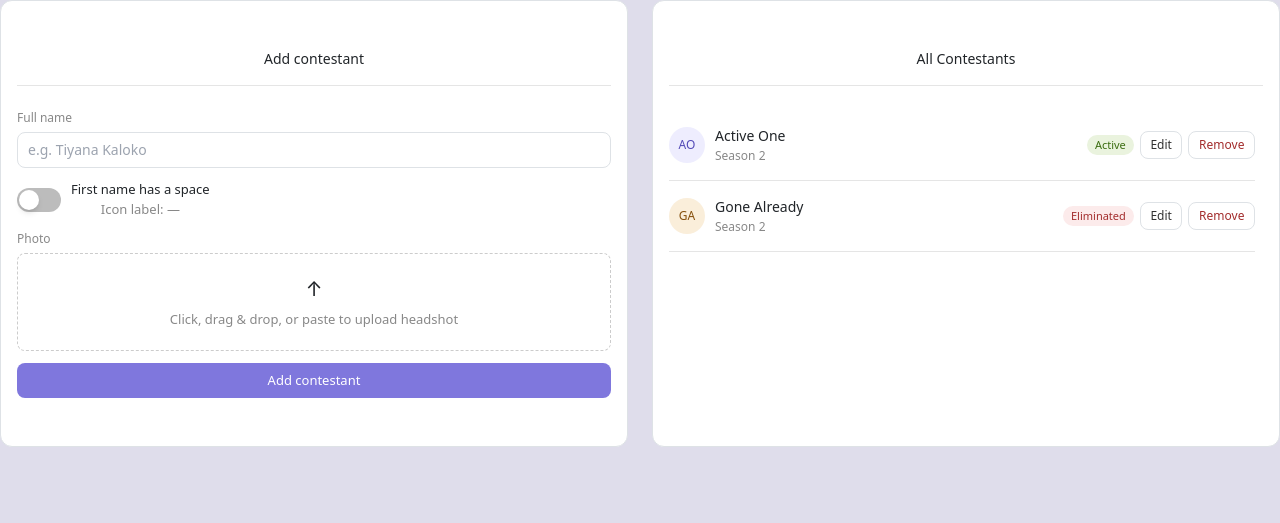
Scenario: AdminContestants › saves a renamed contestant without a new photo
This screenshot has width=1280, height=523.
Click the button "Edit" in the row of "Active One" at (1161, 145), box [1140, 131, 1182, 159]
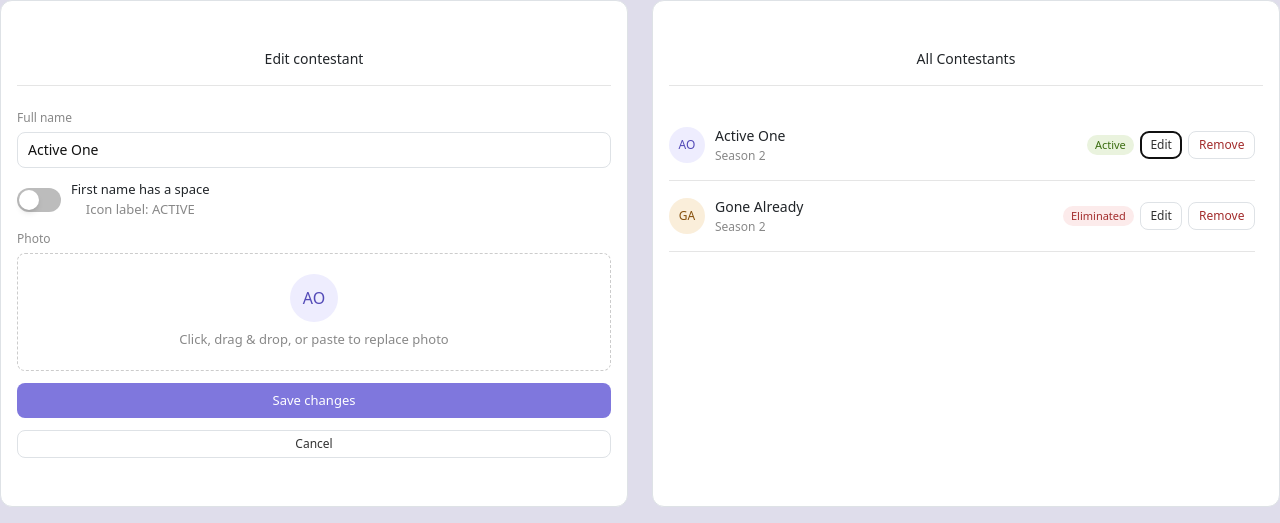
Replace the text in the field with placeholder "e.g. Tiyana Kaloko" with "New Name" at (314, 150), box [17, 132, 611, 168]
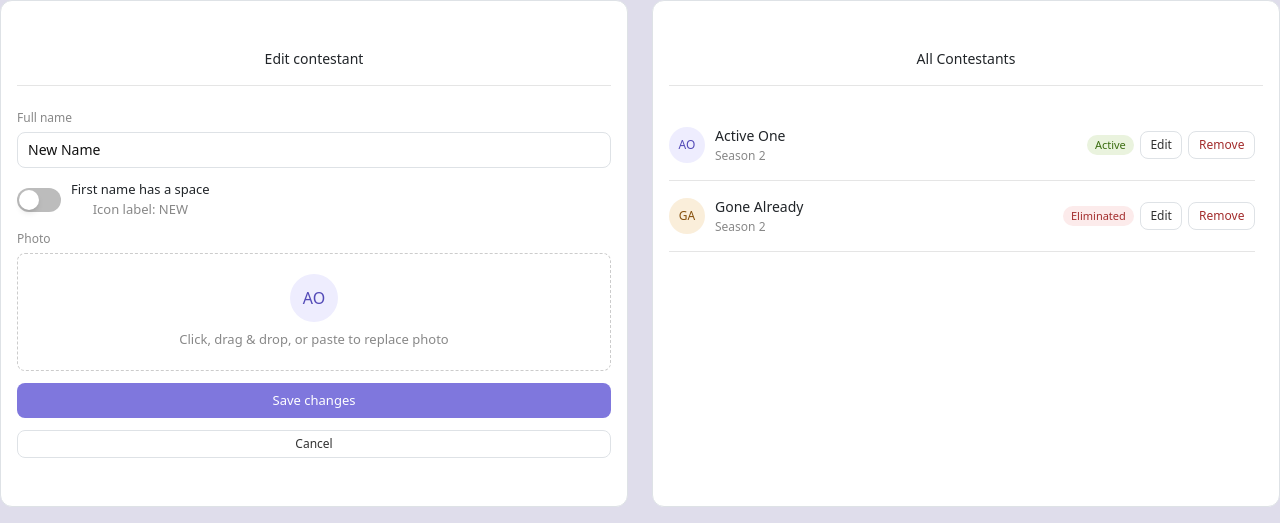
Click the button "Save changes" at (314, 401), box [17, 383, 611, 418]
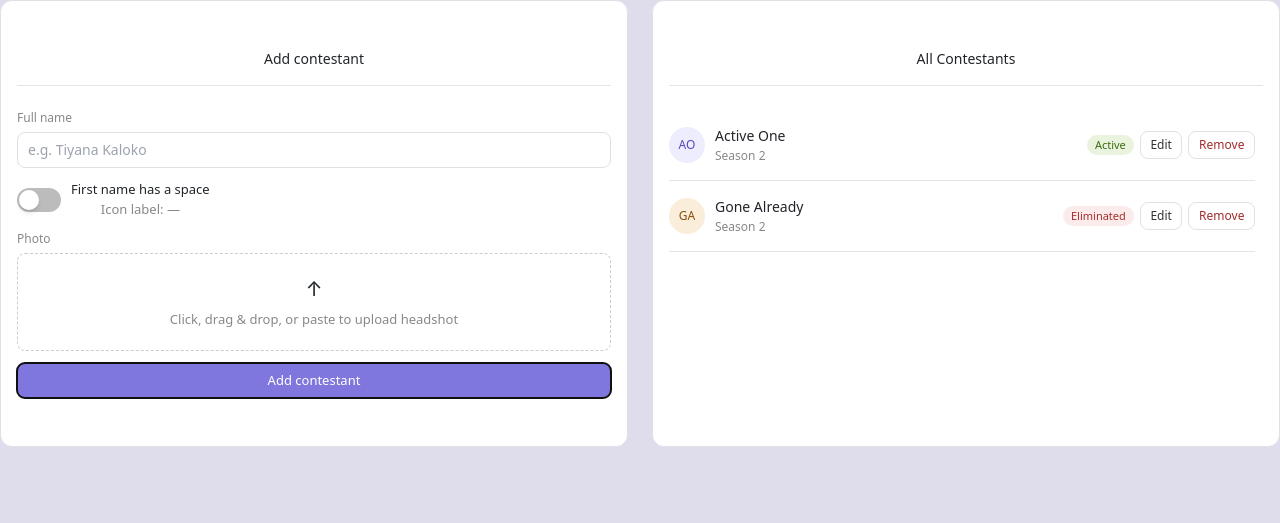
Result: the button "Add contestant" is shown at [17, 363, 611, 398]
